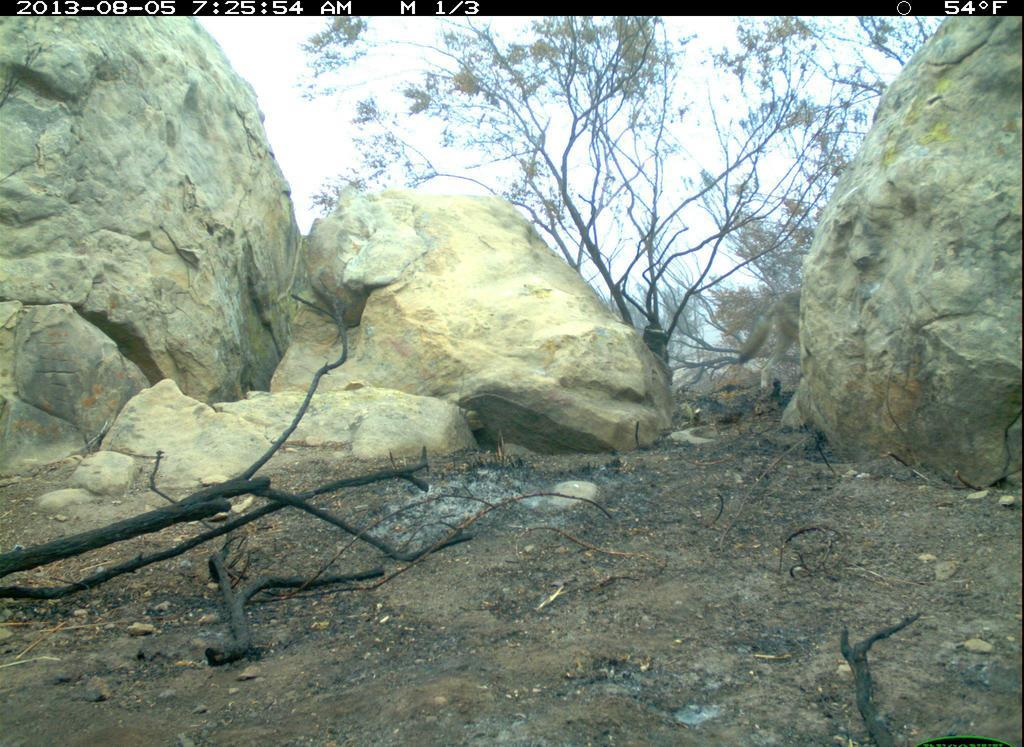coyote: (737, 278, 817, 405)
